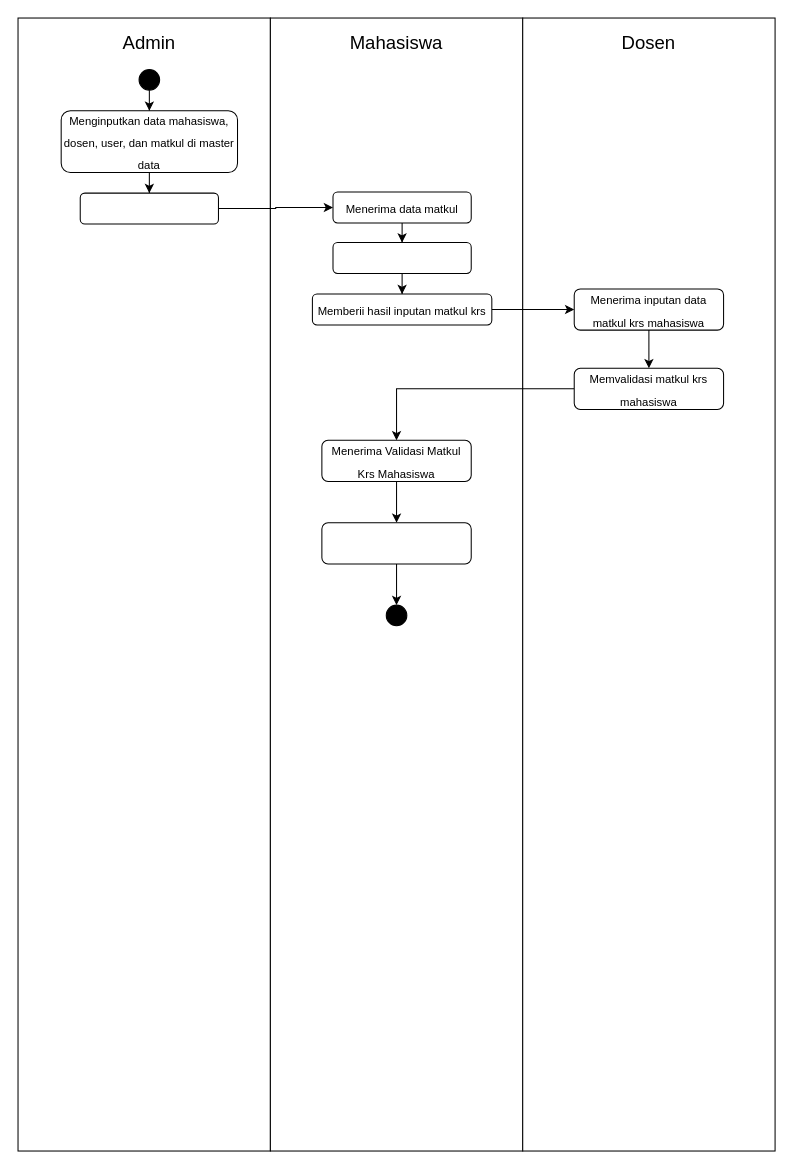
Image size: 793x1169. Some labels were removed from this diagram. Here are the shapes that lost their labels. From the top down, the centre of each, then its label:
At point 148,208: "Memberi data matkul".
At point 401,257: "Menginputkan matkul krs".
At point 396,543: "Cetak Krs".
